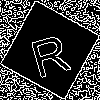R: (25, 25, 73, 79)
